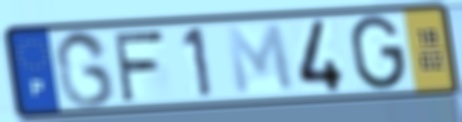1: (180, 24, 215, 102)
4: (296, 16, 349, 95)
F: (110, 28, 167, 105)
G: (52, 28, 118, 111), (348, 13, 408, 93)
M: (222, 21, 298, 98)
